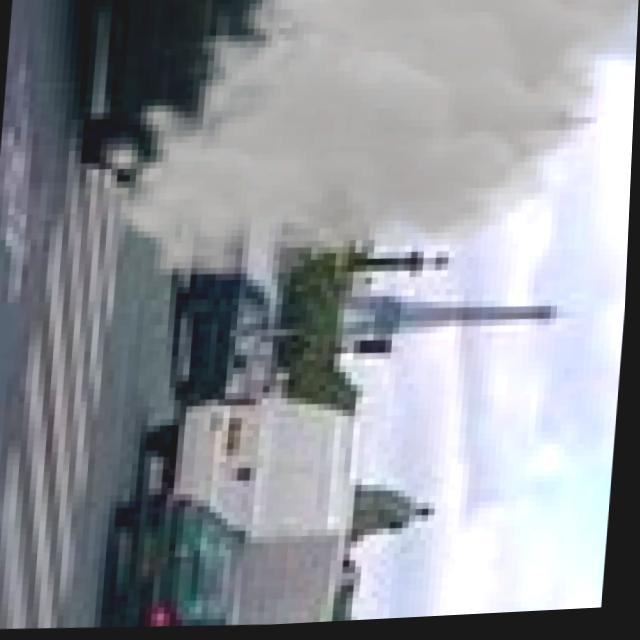smoke: (90, 0, 640, 302)
